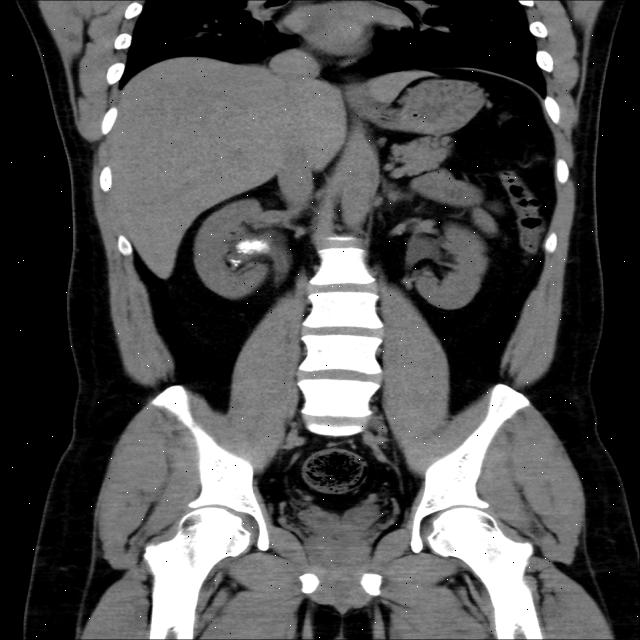kidneystone: (234, 239, 269, 254)
